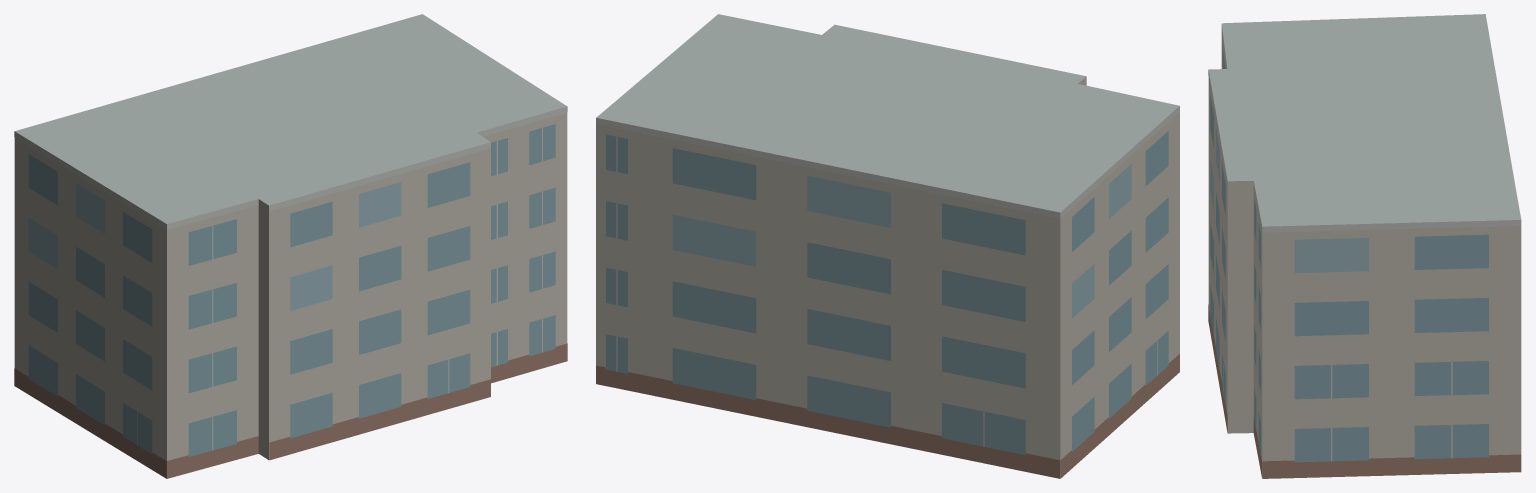
Rendered from survey-upis-33020993.glb.
3 renders of one model, left to right at view 1: azimuth 30°, elevation 25°; view 2: azimuth 150°, elevation 25°; view 3: azimuth 270°, elevation 25°, orthographic. The views are drawn at different scales.
Visible parts, largest first — view 1: survey-upis-33020993.tmp; view 2: survey-upis-33020993.tmp; view 3: survey-upis-33020993.tmp.
Boxes of the visible parts, x1,y1,x2,y2 form: survey-upis-33020993.tmp: [14, 14, 567, 478]; survey-upis-33020993.tmp: [596, 14, 1179, 478]; survey-upis-33020993.tmp: [1208, 14, 1521, 478].
Bounding box in the file's own units: 18.63 × 10.3 × 11.59.
